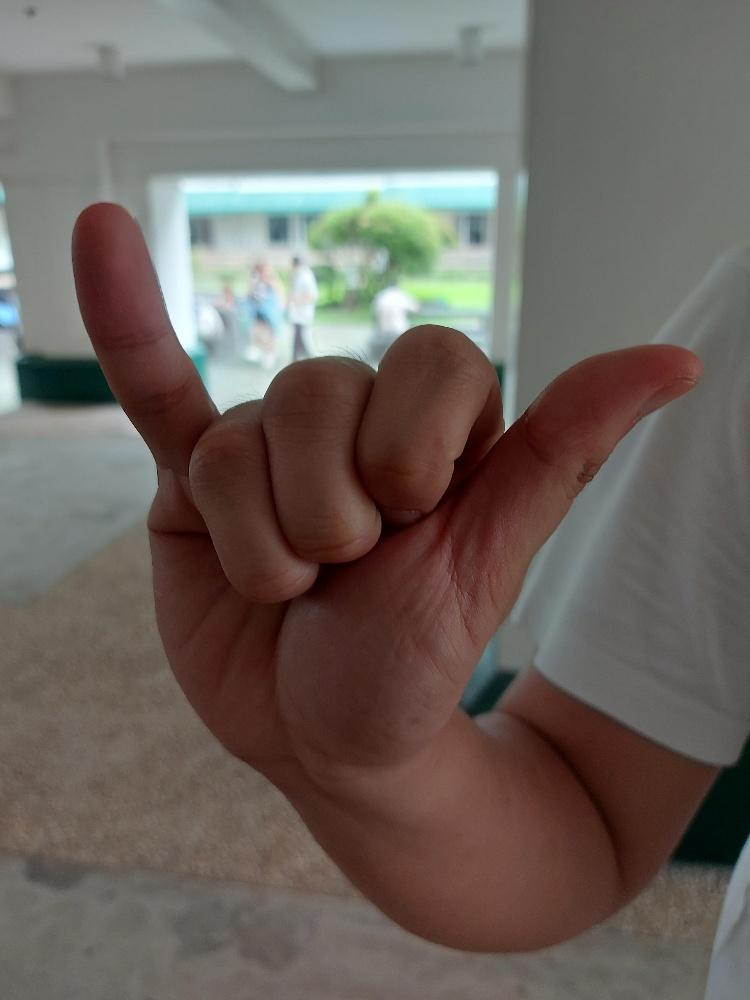y: (66, 200, 708, 764)
